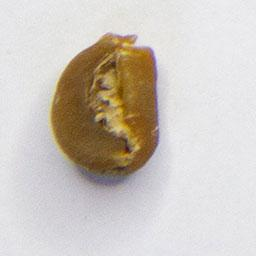defect: (47, 28, 164, 179)
